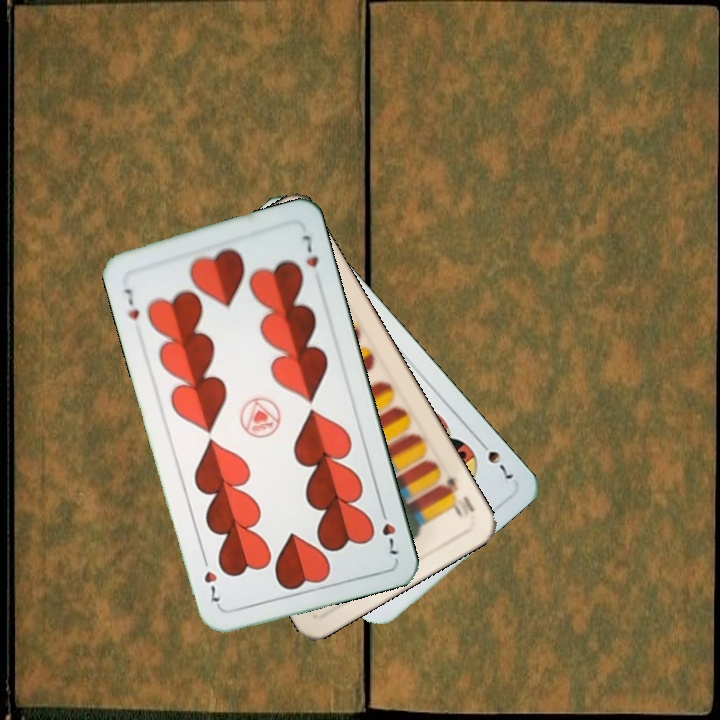E10: (436, 473, 477, 521)
H7: (376, 502, 402, 558), (120, 284, 142, 322)
S7: (473, 435, 516, 482)
